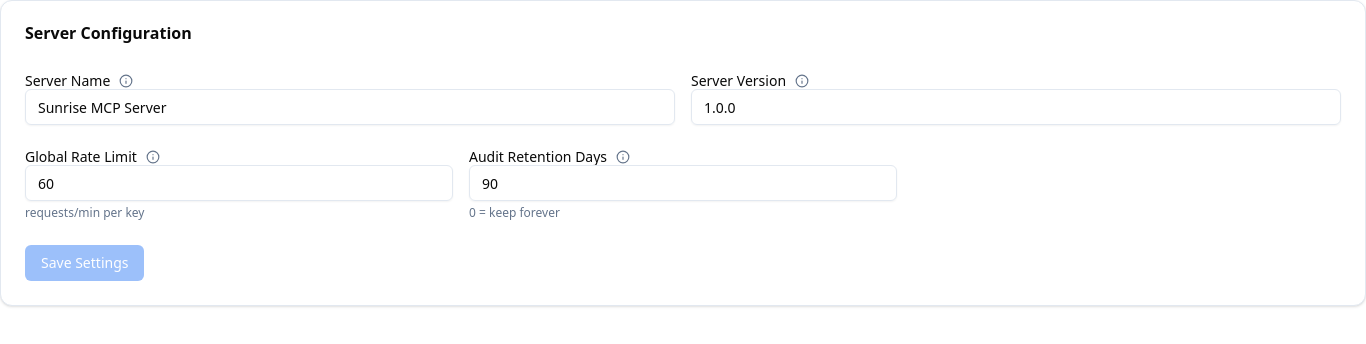
McpSettingsForm validation and saved indicator › shows "serverVersion" error for invalid value : Required
The image size is (1366, 344).
Step 1. Clear the field with id "serverVersion" → (1016, 107), box [691,89,1341,125]
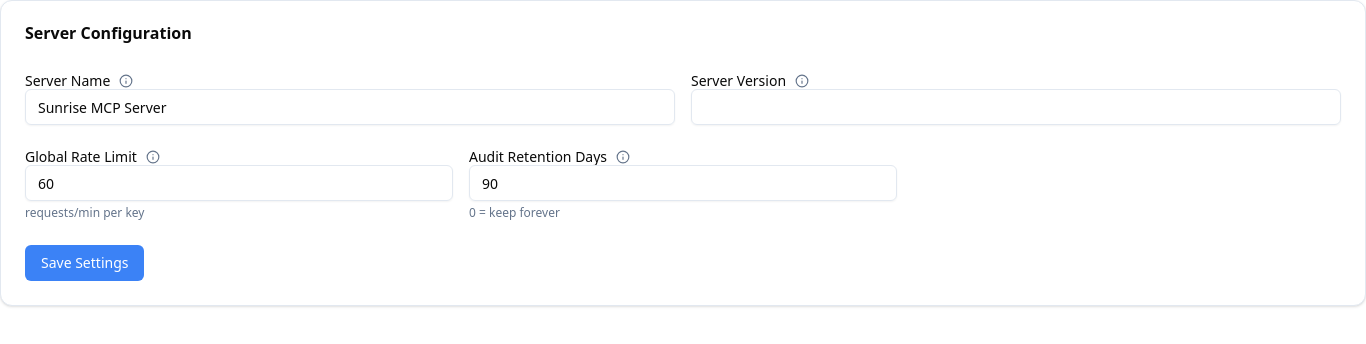
Step 2. Submit the form named "save settings"
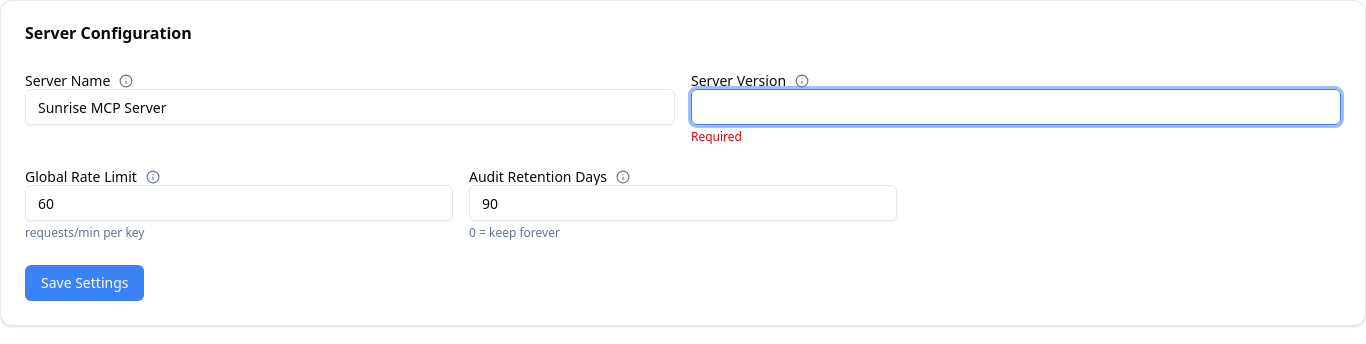
Expected: the text "Required" is shown, [691,128,742,145]
